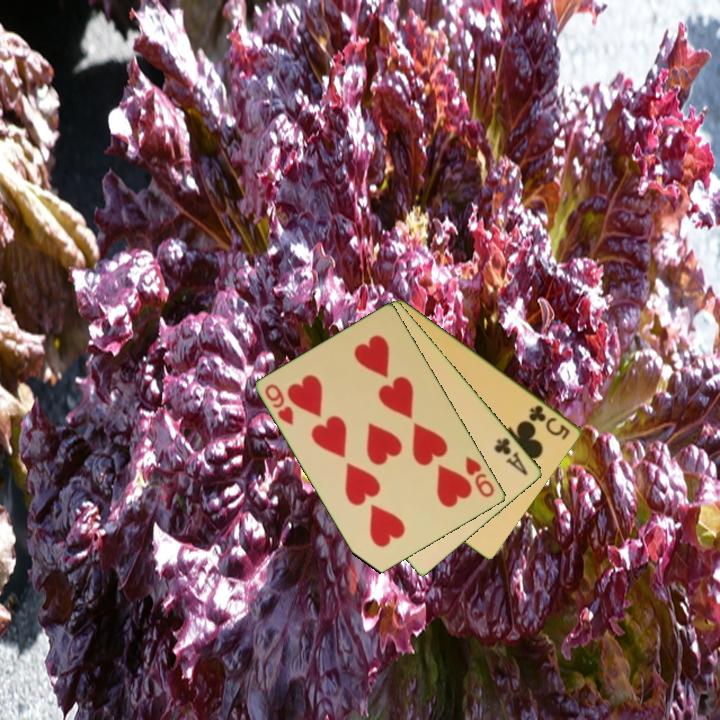5c: (525, 401, 573, 443)
9h: (261, 380, 297, 429), (462, 453, 498, 500)
Ac: (491, 434, 531, 478)
